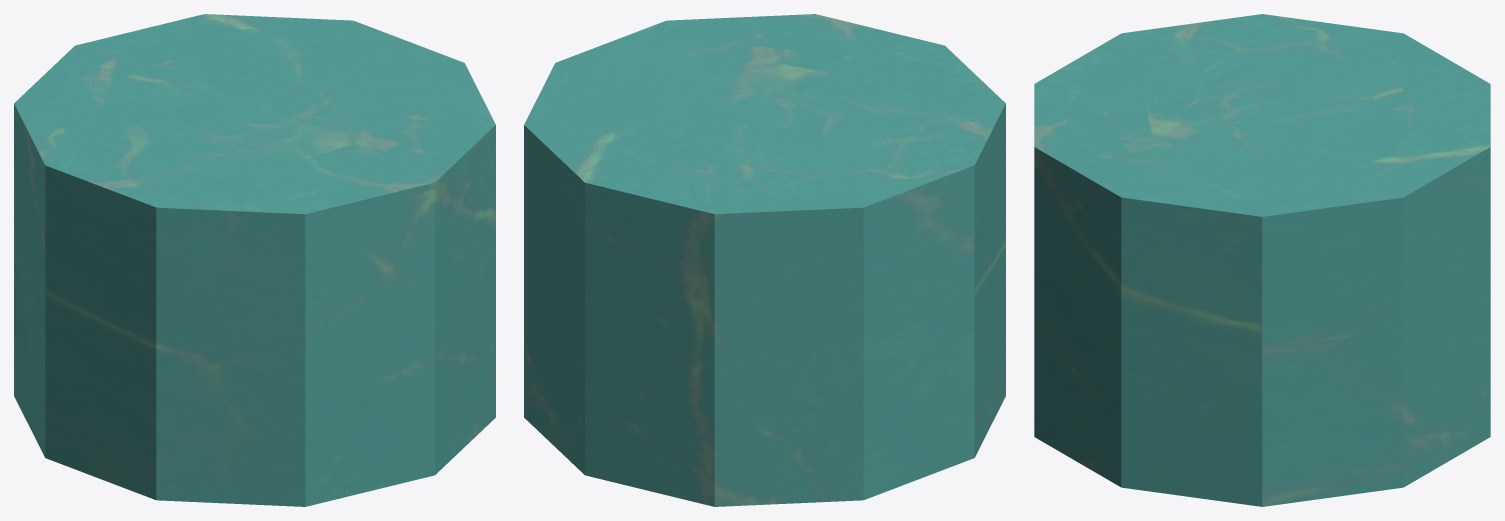
Rendered from soulevator.fbx.
3 views of the same model, side by side, from view 1: azimuth 30°, elevation 25°; view 2: azimuth 150°, elevation 25°; view 3: azimuth 270°, elevation 25° (orthographic).
Visible parts, largest first — view 1: Cylinder, Cylinder_1, Cylinder_3, Cylinder_2, Cylinder_4, Cylinder_5; view 2: Cylinder, Cylinder_3, Cylinder_1, Cylinder_2, Cylinder_4, Cylinder_5; view 3: Cylinder, Cylinder_3, Cylinder_1, Cylinder_2, Cylinder_4, Cylinder_5.
Boxes of the visible parts, x1,y1,x2,y2 form: Cylinder: (14, 14, 495, 506); Cylinder_1: (61, 29, 448, 198); Cylinder_3: (96, 47, 413, 181); Cylinder_2: (135, 65, 375, 160); Cylinder_4: (175, 80, 333, 147); Cylinder_5: (216, 98, 293, 130); Cylinder: (524, 14, 1005, 506); Cylinder_3: (608, 46, 918, 181); Cylinder_1: (563, 31, 965, 196); Cylinder_2: (646, 63, 881, 164); Cylinder_4: (684, 89, 844, 146); Cylinder_5: (727, 97, 804, 130); Cylinder: (1034, 14, 1490, 506); Cylinder_3: (1102, 50, 1422, 180); Cylinder_1: (1064, 32, 1459, 198); Cylinder_2: (1145, 65, 1379, 165); Cylinder_4: (1185, 81, 1339, 148); Cylinder_5: (1222, 99, 1301, 131).
Size of the model in its own units: 12 by 8 by 11.41.
Materials: 1 (1 with a texture image).
